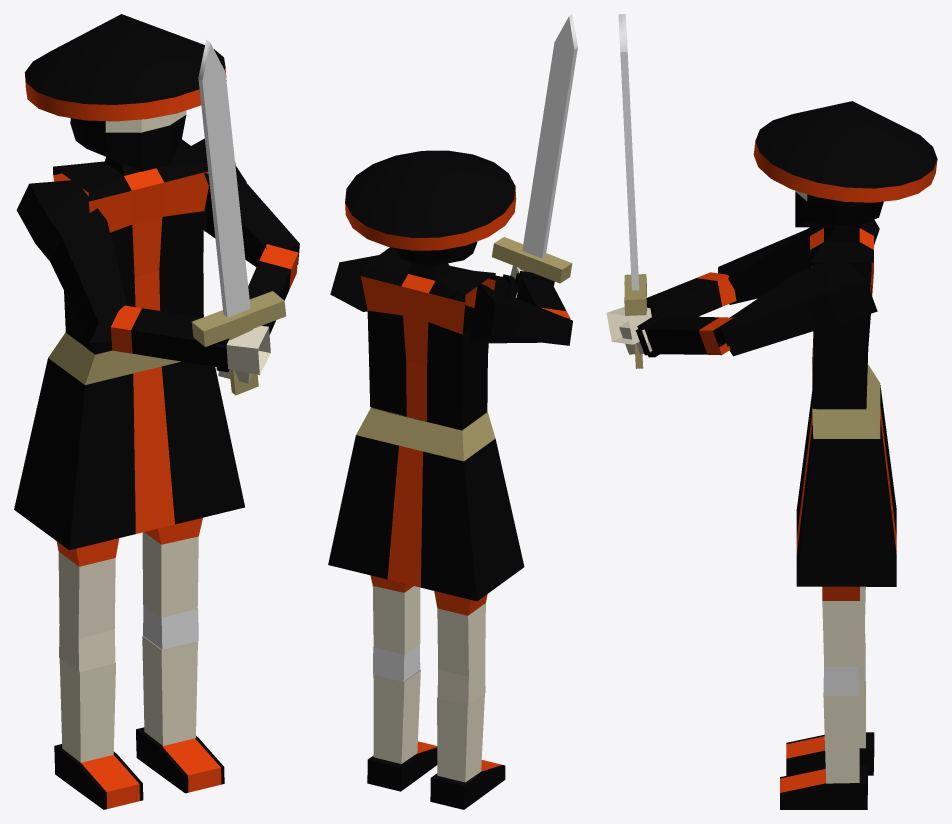
Rendered from mc fight idle.fbx.
3 renders of one model, left to right at view 1: azimuth 30°, elevation 25°; view 2: azimuth 150°, elevation 25°; view 3: azimuth 270°, elevation 25°, orthographic. The views are drawn at different scales.
Visible parts, largest first — view 1: Body_2, Body_3, Hat, Sword, Left_Leg_5, Rightt_Leg_2, Rightt_Leg_1, Left_Leg_4, Left_Arm_1, Left_Arm_2, Head, Left_Arm_3 (+2 smaller); view 2: Body_2, Body_3, Hat, Sword, Left_Leg_5, Rightt_Leg_2, Rightt_Leg_1, Left_Leg_4, Left_Arm_3, Left_Arm_2, Head, Left_Arm_1 (+2 smaller); view 3: Body_2, Hat, Body_3, Left_Leg_5, Right_Arm_2, Left_Leg_4, Right_Arm_3, Left_Arm_1, Right_Arm_1, Left_Arm_2, Sword, Head (+1 smaller).
Boxes of the visible parts, box(x1,y1,x2,y2) form: Body_2: box(14, 332, 244, 550); Body_3: box(53, 139, 208, 354); Hat: box(24, 14, 226, 121); Sword: box(191, 39, 286, 395); Left_Leg_5: box(136, 635, 224, 793); Rightt_Leg_2: box(54, 658, 143, 809); Rightt_Leg_1: box(56, 538, 119, 672); Left_Leg_4: box(142, 518, 202, 649); Left_Arm_1: box(110, 305, 270, 374); Left_Arm_2: box(49, 220, 127, 343); Head: box(70, 110, 186, 175); Left_Arm_3: box(16, 180, 106, 260); Body_2: box(328, 407, 524, 601); Body_3: box(360, 247, 495, 430); Hat: box(345, 150, 516, 250); Sword: box(492, 14, 577, 283); Left_Leg_5: box(367, 670, 437, 791); Rightt_Leg_2: box(430, 693, 505, 809); Rightt_Leg_1: box(434, 591, 487, 705); Left_Leg_4: box(370, 575, 420, 681); Left_Arm_3: box(469, 283, 520, 343); Left_Arm_2: box(486, 289, 572, 345); Head: box(393, 241, 477, 280); Left_Arm_1: box(510, 265, 570, 319); Body_2: box(796, 364, 896, 586); Hat: box(753, 101, 937, 202); Body_3: box(810, 220, 873, 408); Left_Leg_5: box(780, 693, 867, 809); Right_Arm_2: box(720, 272, 815, 356); Left_Leg_4: box(822, 586, 859, 695); Right_Arm_3: box(797, 258, 877, 330); Left_Arm_1: box(606, 272, 736, 344); Right_Arm_1: box(619, 313, 733, 357); Left_Arm_2: box(718, 229, 815, 304); Sword: box(618, 14, 646, 368); Head: box(795, 190, 883, 242).
Bounding box in the file's own units: 1.22 × 4.6 × 1.84.
